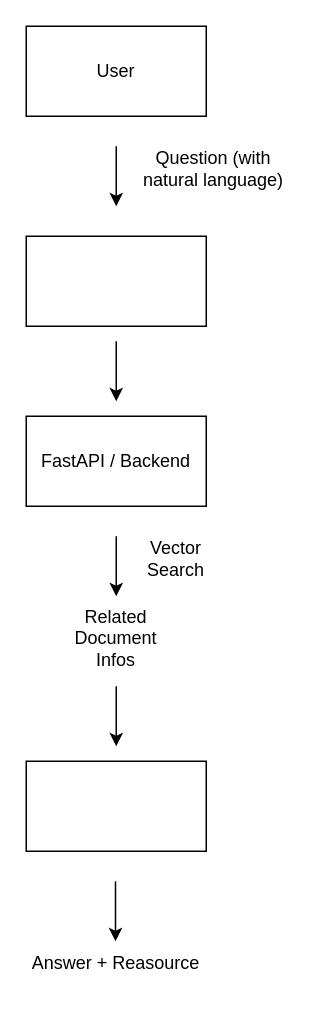
Some shapes in this 323 by 1013 pixel diagram are drawn without their labels. The shapes that lost their labels are listed below. From the top down, each one's centre as x and y in pixels, then its label:
point (115, 280): Frontend
point (115, 805): LLM (OpenAI)
